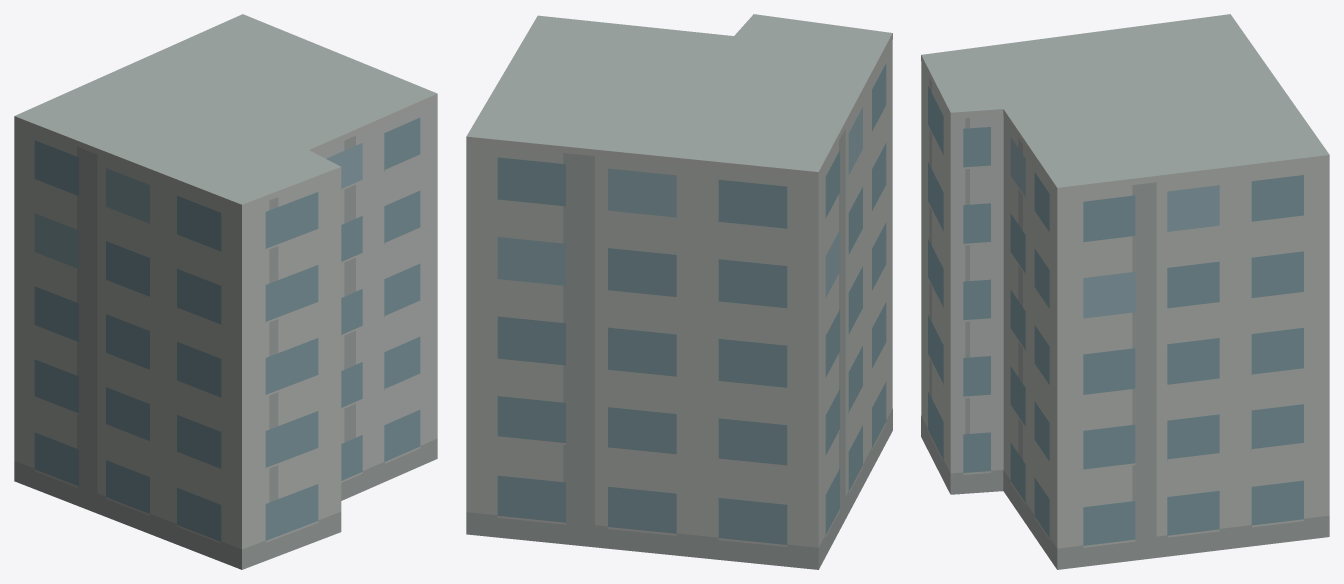
File: survey-upis-32836788.glb
3 renders of one model, left to right at view 1: azimuth 30°, elevation 25°; view 2: azimuth 150°, elevation 25°; view 3: azimuth 270°, elevation 25°, orthographic. The views are drawn at different scales.
Visible parts, largest first — view 1: survey-upis-32836788.tmp; view 2: survey-upis-32836788.tmp; view 3: survey-upis-32836788.tmp.
Boxes of the visible parts, <box> form: survey-upis-32836788.tmp: <box>14,14,437,569</box>; survey-upis-32836788.tmp: <box>466,14,892,569</box>; survey-upis-32836788.tmp: <box>921,14,1329,569</box>.
Size of the model in its own units: 14.21 by 14.55 by 14.11.
